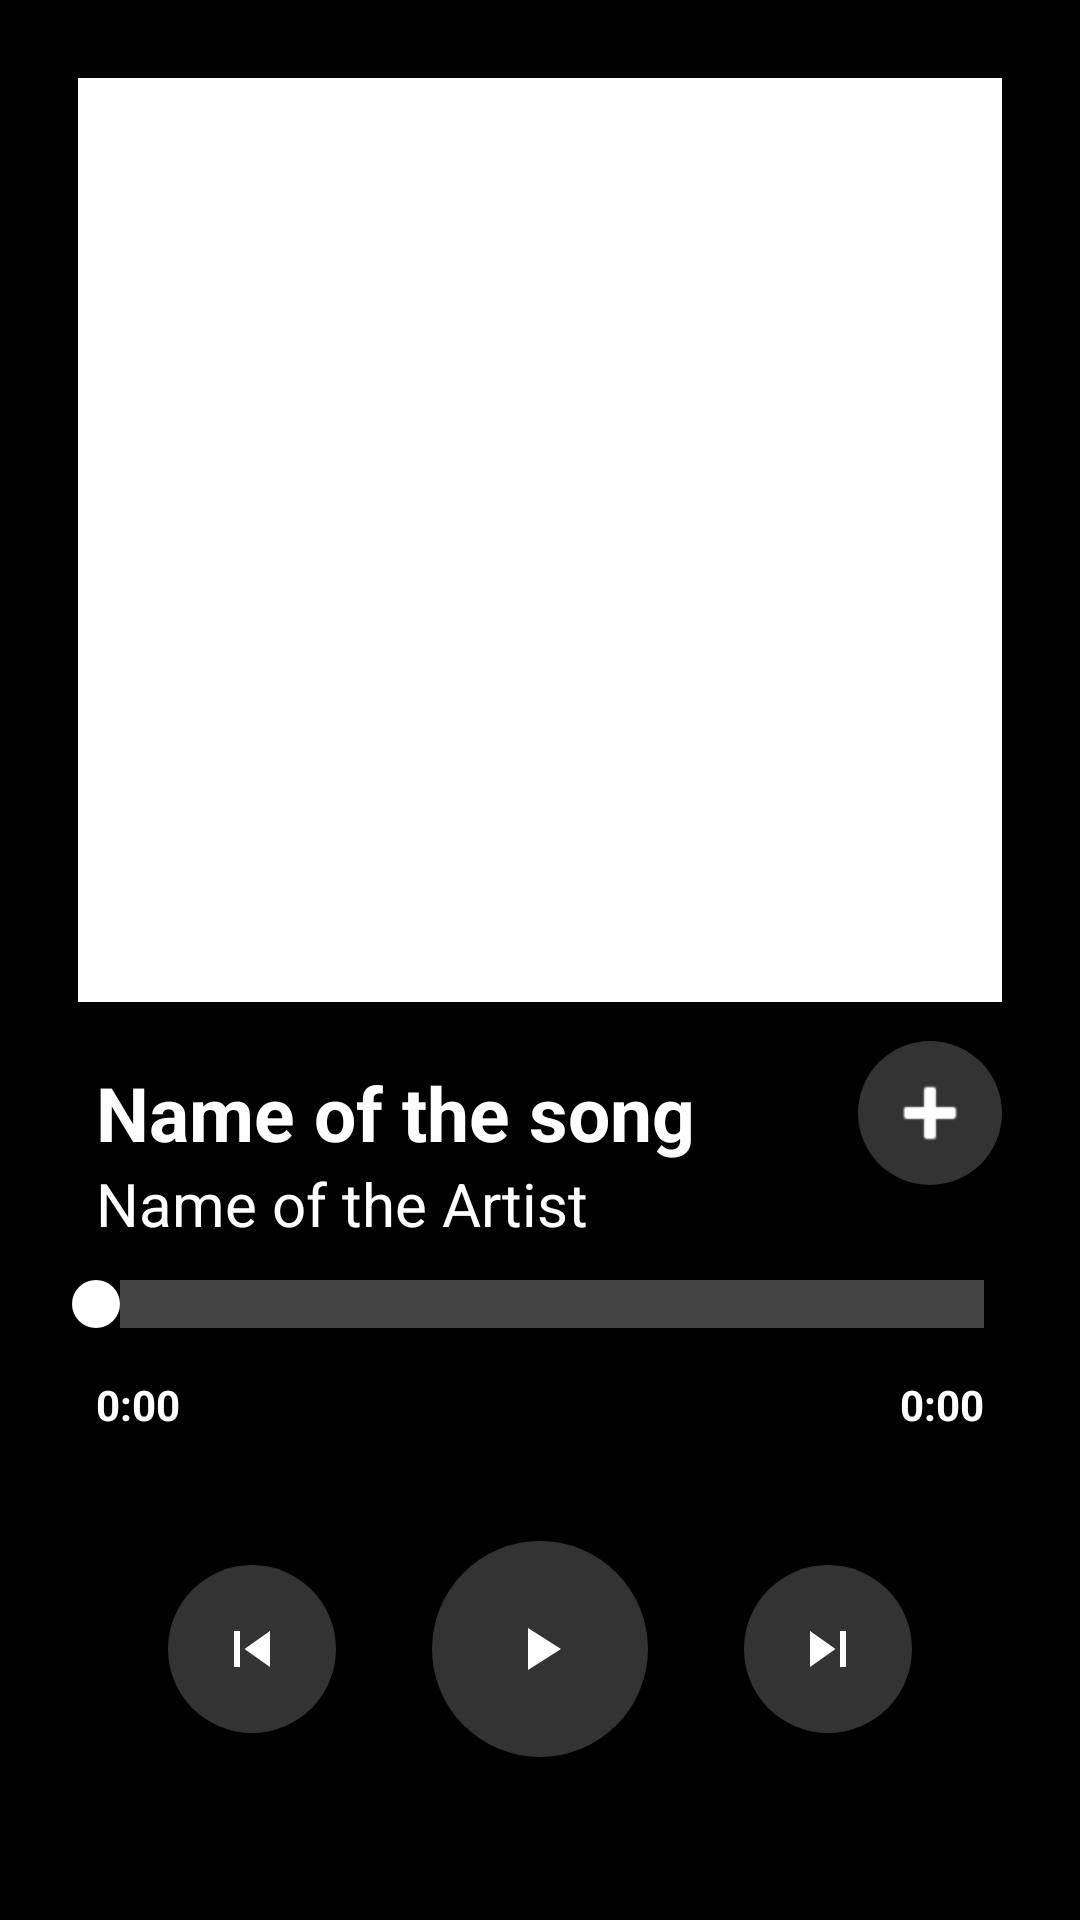

Where to tap for icons on this 1080w x 1920h app screen, as (x=x, y=y):
Add to Playlist: (x=930, y=1113)
Next: (x=828, y=1649)
Play/Pause: (x=540, y=1649)
Previous: (x=252, y=1649)
